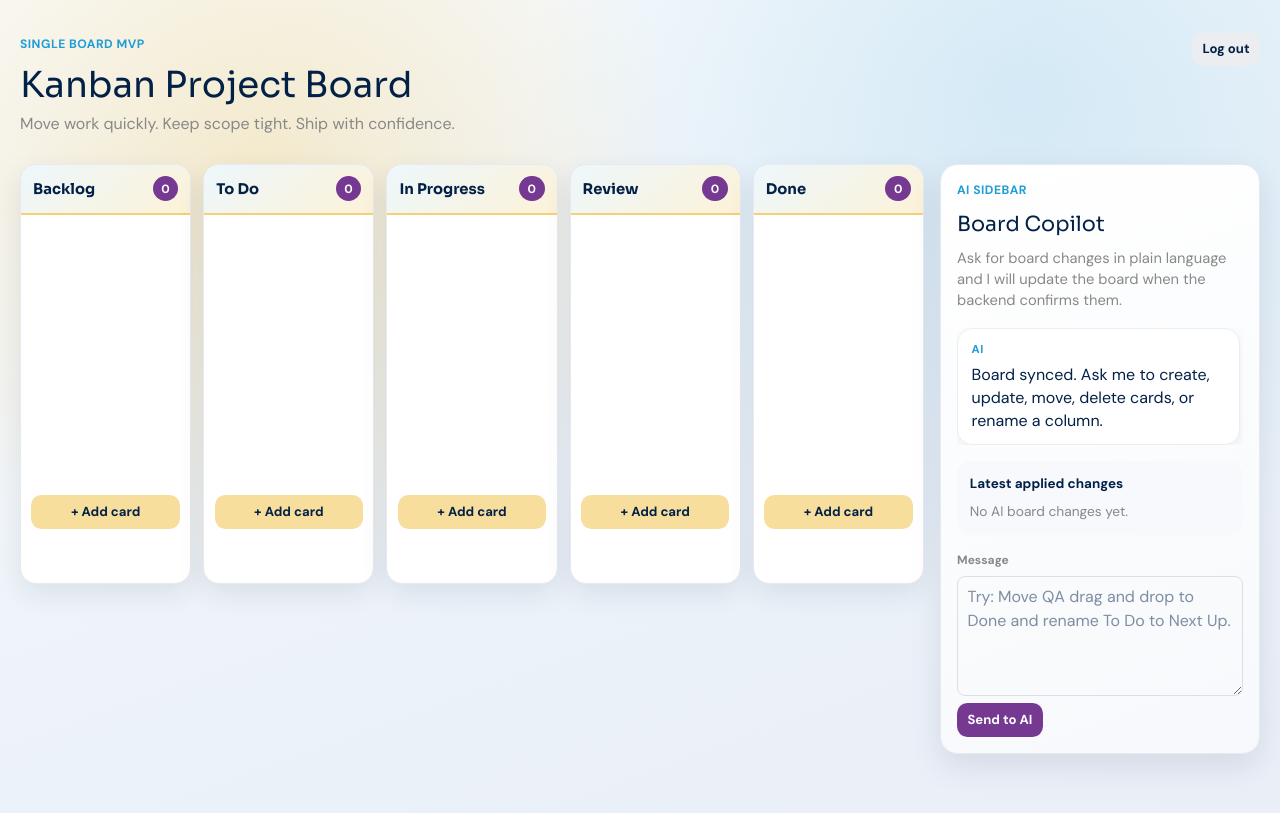
AppShell › sends chat requests and refreshes the board from the AI response
The image size is (1280, 813).
expect the field named "todo-title" is shown: met, box [216,178,328,200]
Replace the text in the text box labelled "Message" with "Rename To Do to Next Up and add a release notes card there.": (1100, 636) [957,576,1243,696]
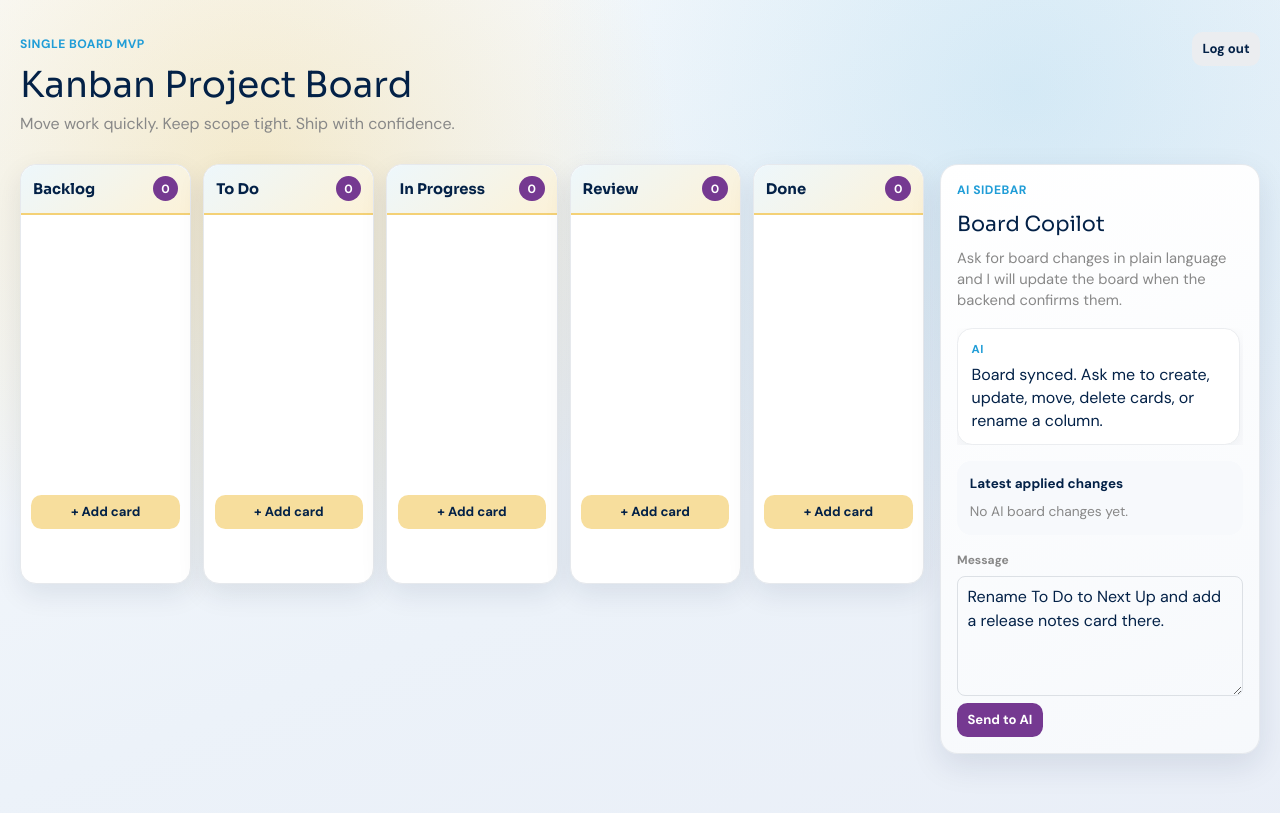
Click the button "Send to AI": (1000, 720) [957,703,1043,737]
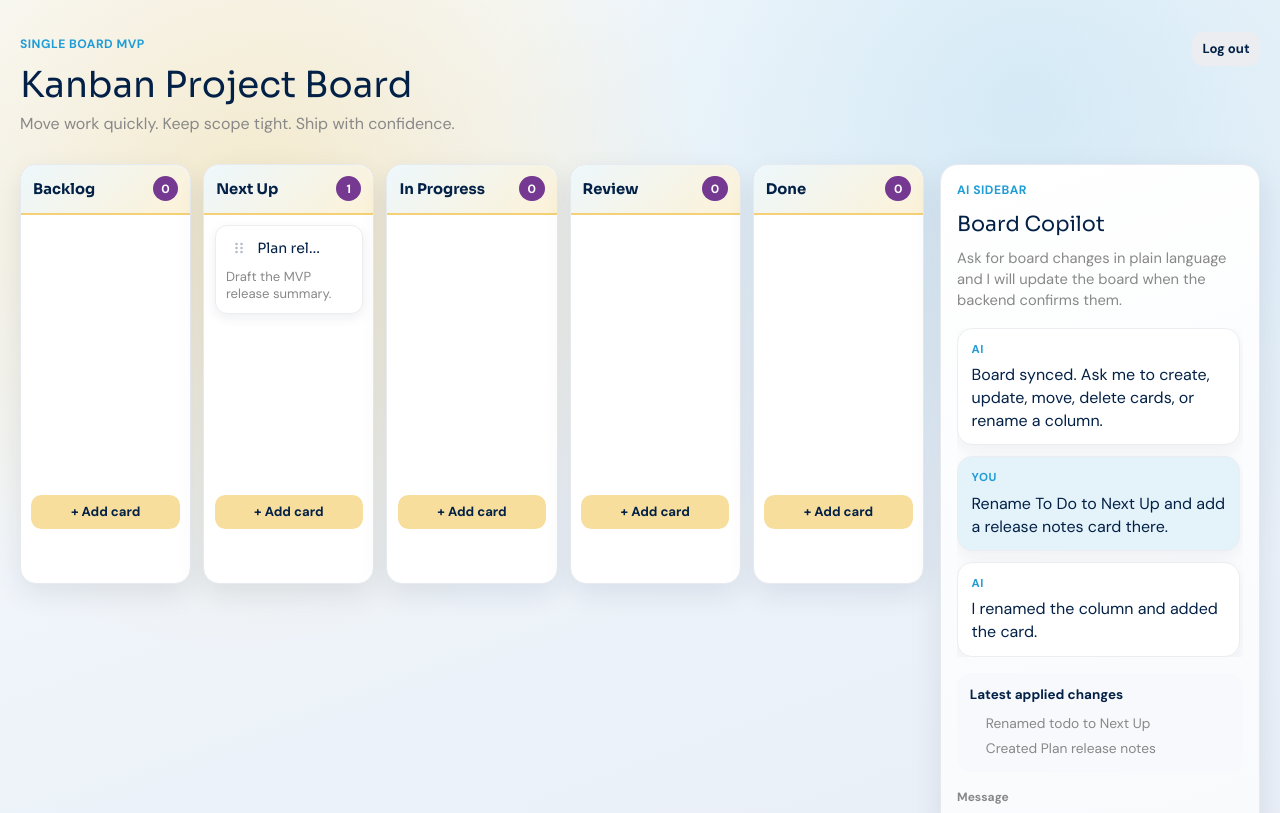
expect the text "I renamed the column and added the card." is shown: met, box [972,597,1225,644]
expect the field named "todo-title" holds "Next Up": met, box [216,178,328,200]
expect the heading "Plan release notes" is shown: met, box [257,238,320,259]
